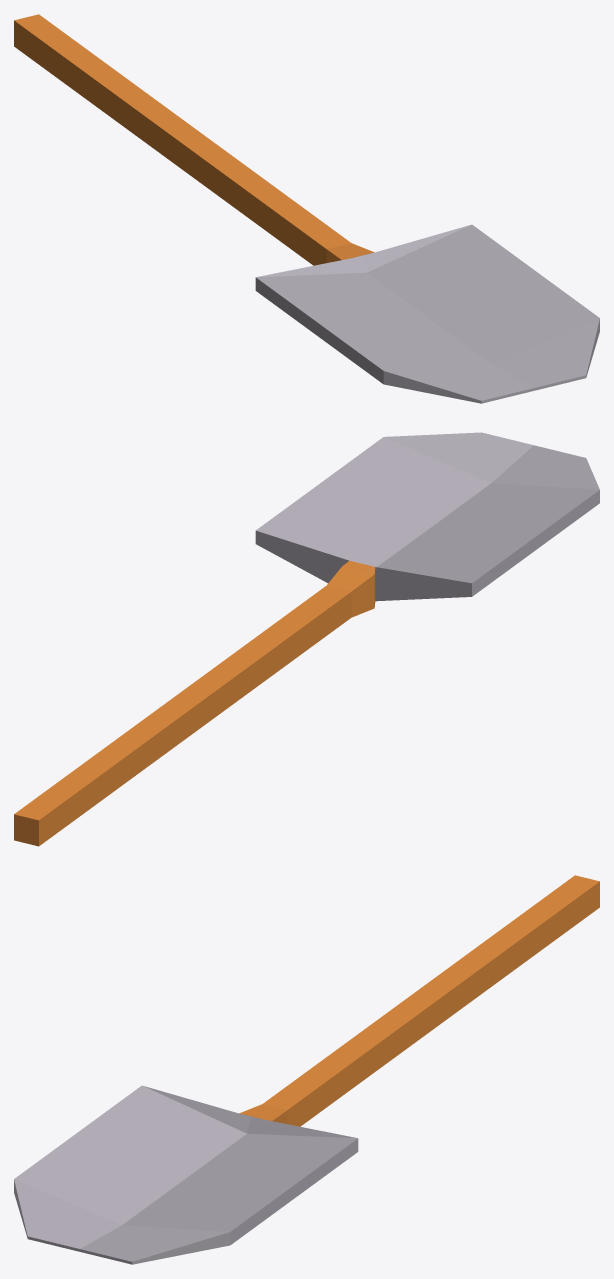
File: steel_shovel.glb
3 views of the same model, one above another, from view 1: azimuth 30°, elevation 25°; view 2: azimuth 150°, elevation 25°; view 3: azimuth 330°, elevation 25° (orthographic).
Visible parts, largest first — view 1: Cube; view 2: Cube; view 3: Cube.
Part boxes in pixels (box(x1,y1,x2,y2)): Cube: box(14, 14, 599, 403); Cube: box(14, 432, 599, 846); Cube: box(14, 875, 599, 1264).
Bounding box in the file's own units: 4.29 × 0.8235 × 17.41.
